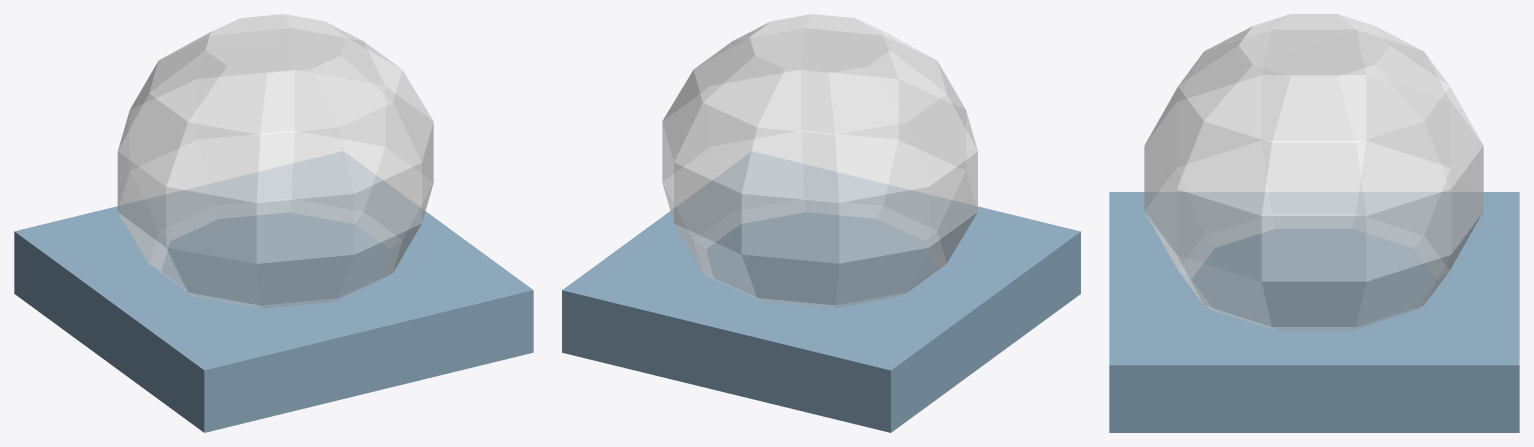
The model's file is car_blue_x.dae.
3 views of the same model, side by side, from view 1: azimuth 30°, elevation 25°; view 2: azimuth 150°, elevation 25°; view 3: azimuth 270°, elevation 25° (orthographic). The views are drawn at different scales.
Parts seen in each view (by area): view 1: car_red_009; view 2: car_red_009; view 3: car_red_009.
Boxes of the visible parts, box(x1,y1,x2,y2) form: car_red_009: box(14, 14, 533, 432); car_red_009: box(562, 14, 1080, 432); car_red_009: box(1109, 14, 1519, 432).
Size of the model in its own units: 0.6326 by 0.6326 by 0.5131.
